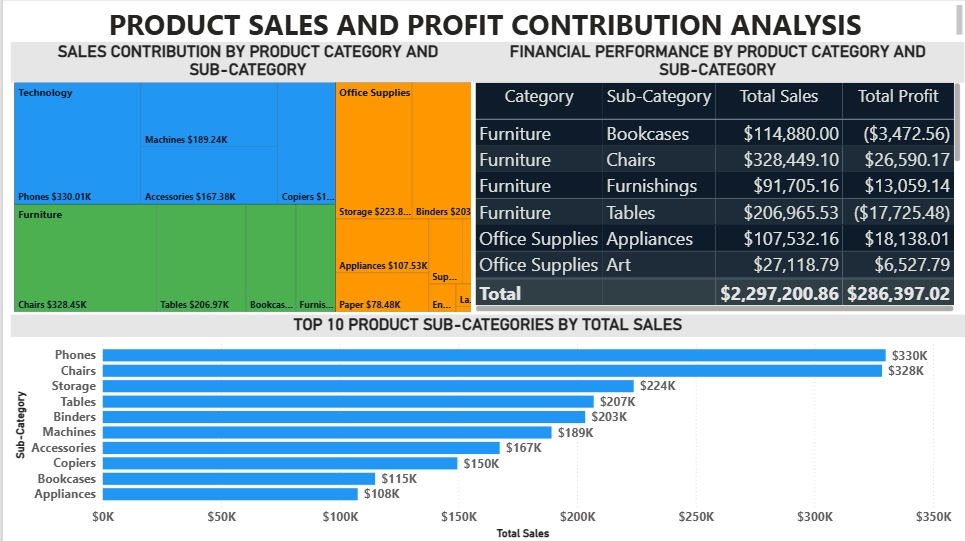

This screenshot's page, from the dashboard's own definition file:
{"tool":"powerbi","page":{"name":"Product Sales and Profit Contribution Analysis","canvas":[1280,720],"ordinal":1},"visuals":[{"type":"treemap","title":"SALES CONTRIBUTION BY PRODUCT CATEGORY AND SUB-CATEGORY","fields":{"Values":["Orders.Total Sales"],"Group":["Orders.Category"],"Details":["Orders.Sub-Category"]},"box":[9.9,53,631.1,364.4],"z":0},{"type":"tableEx","title":"FINANCIAL PERFORMANCE BY PRODUCT CATEGORY AND SUB-CATEGORY","fields":{"Values":["Orders.Category","Orders.Sub-Category","Orders.Total Sales","Orders.Total Profit"]},"box":[622.8,53,656,364.4],"z":1000},{"type":"clusteredBarChart","title":"TOP 10 PRODUCT SUB-CATEGORIES BY TOTAL SALES","fields":{"Y":["Orders.Total Sales"],"Category":["Orders.Sub-Category"]},"box":[9.9,417.4,1268.9,303.1],"z":2000},{"type":"textbox","box":[10,0,1270,54],"z":3000}]}

Visuals, with their boxes in screenshot pixels (x1, y1, x2, y2), scaled from the page's 1280x720 canvas onto the 965x541 screenshot:
"SALES CONTRIBUTION BY PRODUCT CATEGORY AND SUB-CATEGORY" treemap: pyautogui.locateOnScreen(7, 40, 483, 314)
"FINANCIAL PERFORMANCE BY PRODUCT CATEGORY AND SUB-CATEGORY" tableEx: pyautogui.locateOnScreen(470, 40, 964, 314)
"TOP 10 PRODUCT SUB-CATEGORIES BY TOTAL SALES" clusteredBarChart: pyautogui.locateOnScreen(7, 314, 964, 540)
textbox: pyautogui.locateOnScreen(8, 0, 964, 41)
